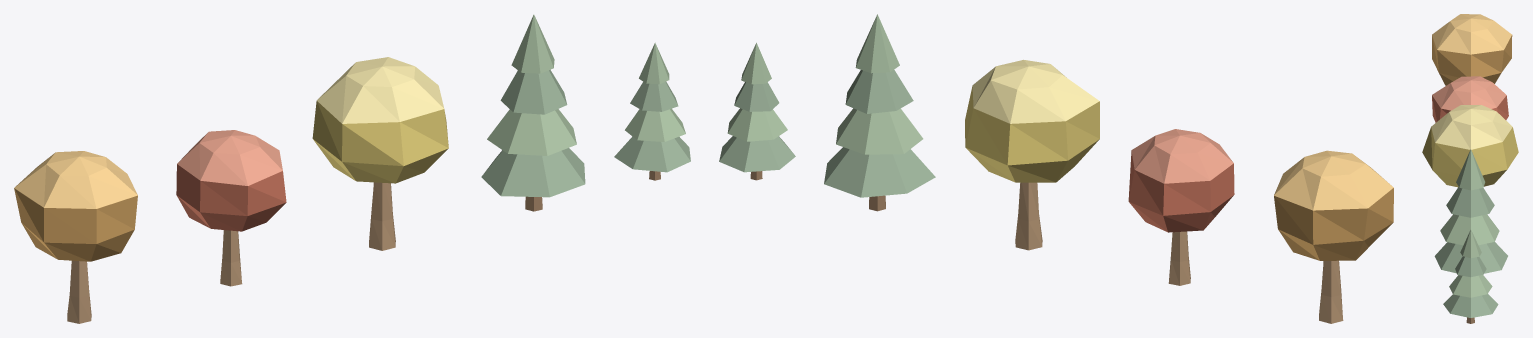
The model's file is trees.glb.
The picture shows the model from 3 angles, left to right: view 1: azimuth 30°, elevation 25°; view 2: azimuth 150°, elevation 25°; view 3: azimuth 270°, elevation 25°; orthographic projection. The views are drawn at different scales.
Visible parts, largest first — view 1: RoundTree_Yellow, RoundTree_Orange, Pine_A, RoundTree_Red, Pine_B; view 2: RoundTree_Yellow, RoundTree_Orange, Pine_A, RoundTree_Red, Pine_B; view 3: RoundTree_Yellow, RoundTree_Orange, Pine_A, Pine_B, RoundTree_Red.
Part boxes in pixels (<box>): RoundTree_Yellow: <box>312,57,448,250</box>; RoundTree_Orange: <box>14,151,137,323</box>; Pine_A: <box>481,14,585,211</box>; RoundTree_Red: <box>176,130,286,286</box>; Pine_B: <box>614,42,690,180</box>; RoundTree_Yellow: <box>965,59,1099,250</box>; RoundTree_Orange: <box>1274,150,1393,323</box>; Pine_A: <box>824,14,935,211</box>; RoundTree_Red: <box>1128,129,1234,285</box>; Pine_B: <box>719,42,795,180</box>; RoundTree_Yellow: <box>1422,105,1518,187</box>; RoundTree_Orange: <box>1432,14,1512,85</box>; Pine_A: <box>1434,149,1507,273</box>; Pine_B: <box>1443,229,1498,323</box>; RoundTree_Red: <box>1432,76,1508,122</box>.
Bounding box in the file's own units: 21.82 × 6.11 × 4.02.
